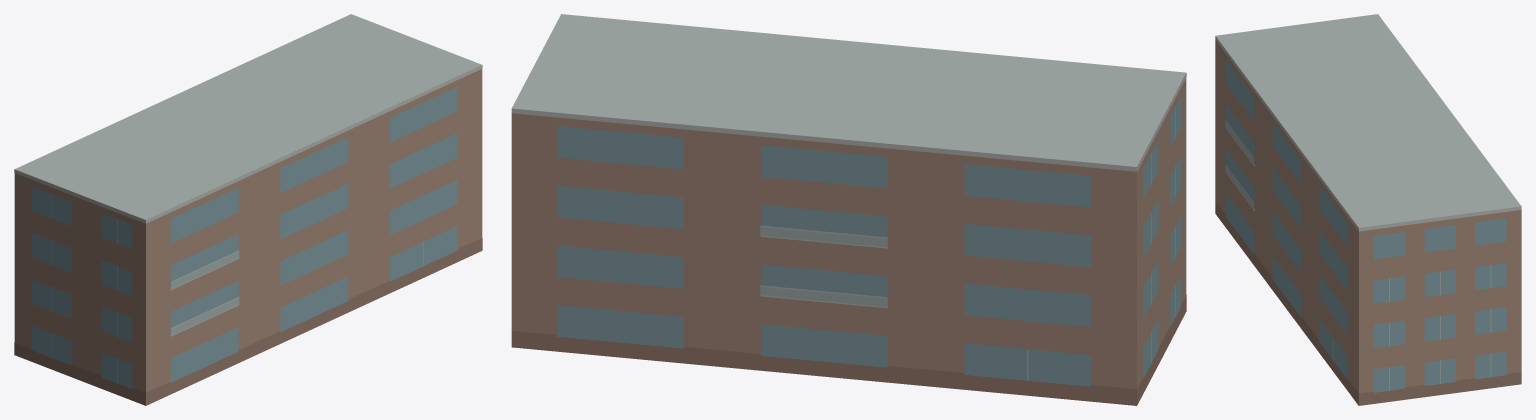
The model's file is residential-edf73e8b-79fa-4639-be25-f78c512af26d.glb.
The picture shows the model from 3 angles, left to right: view 1: azimuth 30°, elevation 25°; view 2: azimuth 150°, elevation 25°; view 3: azimuth 270°, elevation 25°; orthographic projection. The views are drawn at different scales.
Parts seen in each view (by area): view 1: residential-edf73e8b-79fa-4639-be25-f78c512af26d.tmp; view 2: residential-edf73e8b-79fa-4639-be25-f78c512af26d.tmp; view 3: residential-edf73e8b-79fa-4639-be25-f78c512af26d.tmp.
Part boxes in pixels (x1,y1,x2,y2): residential-edf73e8b-79fa-4639-be25-f78c512af26d.tmp: (14,14,482,405); residential-edf73e8b-79fa-4639-be25-f78c512af26d.tmp: (511,14,1186,405); residential-edf73e8b-79fa-4639-be25-f78c512af26d.tmp: (1215,14,1521,405).
Size of the model in its own units: 31.47 by 12.2 by 19.04.
